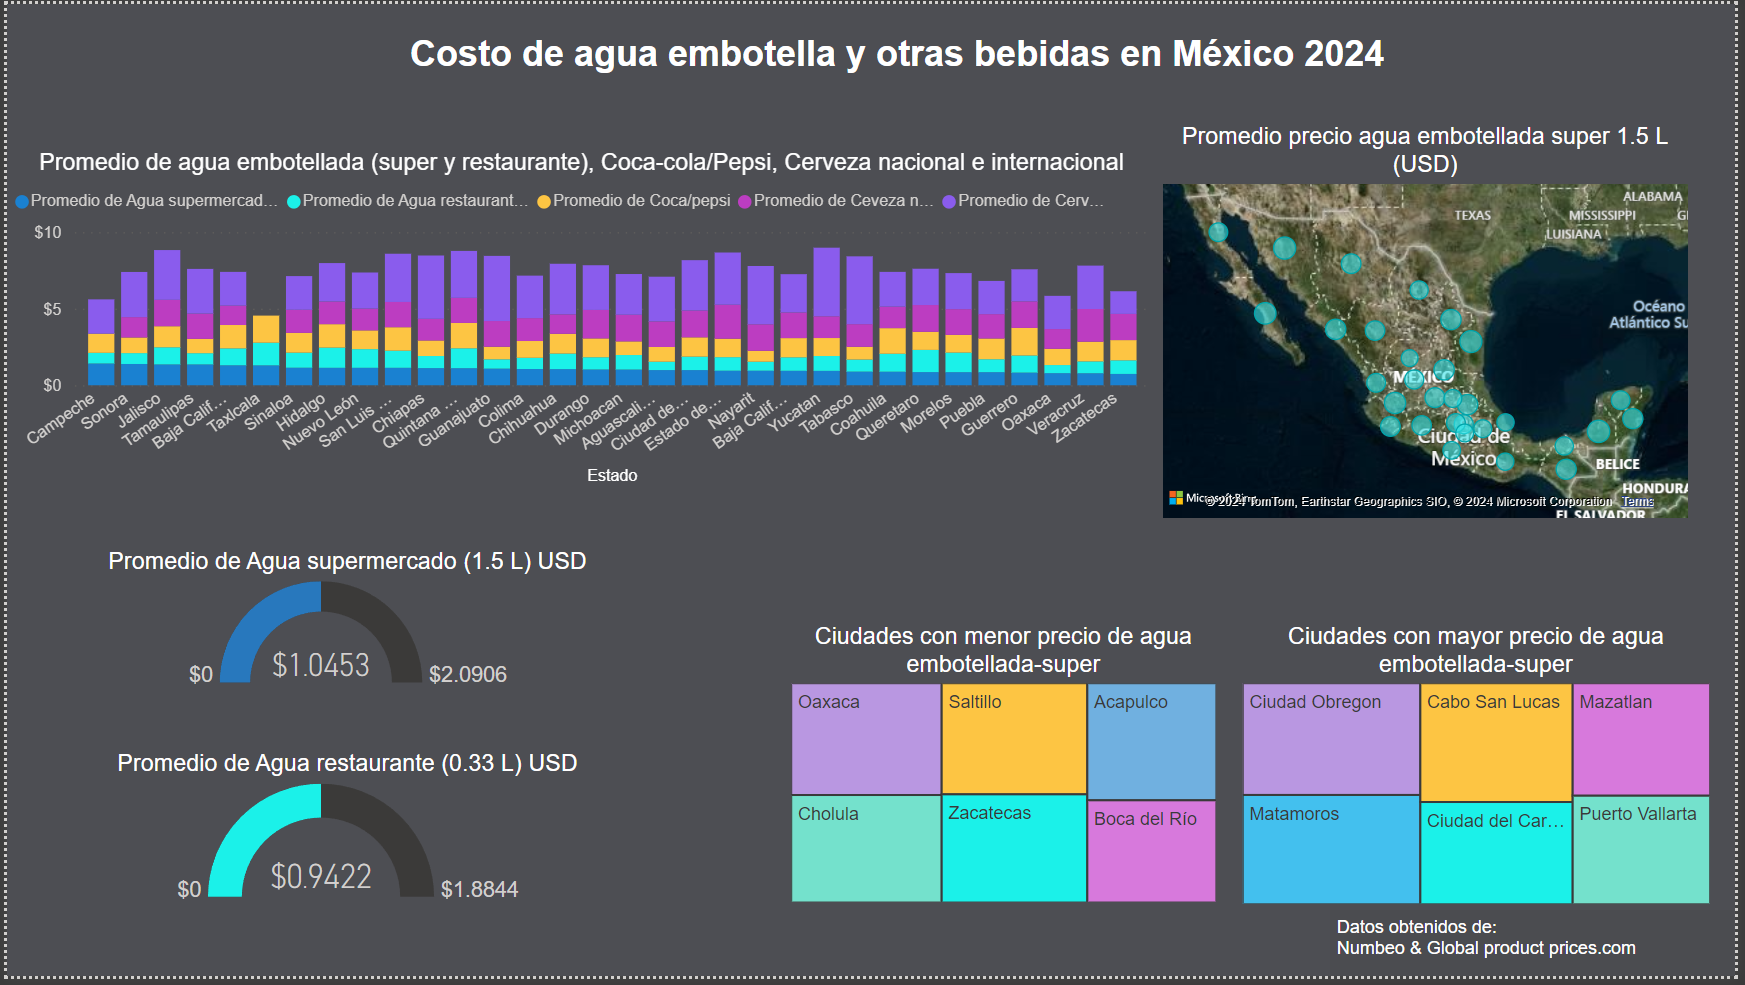

The page's visual inventory and layout, read from the dashboard file:
{"tool":"powerbi","page":{"name":"bEBIDAS_MEX","canvas":[1280,720],"ordinal":1},"visuals":[{"type":"treemap","title":"Ciudades con mayor precio de agua embotellada super","fields":{"Group":["T5 aguaemb_mx.Ciudad"],"Values":["Avg(T5 aguaemb_mx.Agua supermercado (1.5L))"]},"box":[913.8,461.5,349.2,247.7],"z":0},{"type":"map","title":"Promedio precio agua embotellada super 1.5 L (USD)","fields":{"Category":["T5 aguaemb_mx.Estado"],"Size":["Avg(T5 aguaemb_mx.Agua supermercado (1.5L))"]},"box":[0,300,561.5,409.2],"z":1000},{"type":"treemap","title":"Ciudades con menor precio de agua embotellada super","fields":{"Group":["T5 aguaemb_mx.Ciudad"],"Values":["Avg(T5 aguaemb_mx.Agua supermercado (1.5L))"]},"box":[572.3,461.5,321.5,247.7],"z":2000},{"type":"gauge","fields":{"Y":["Avg(T5 aguaemb_mx.Agua supermercado (1.5L) USD)"]},"box":[772.3,300,315.4,129.2],"z":3000},{"type":"lineStackedColumnComboChart","title":"Promedio de agua embotellada supermercado, restaurante, Coca-cola/Pepsi, Cerveza nacional e internacional","fields":{"Category":["T6 otrasbebd_mx.Estado"],"Y":["Avg(T5 aguaemb_mx.Agua supermercado (1.5L) USD)","Avg(T5 aguaemb_mx.Agua restaurante (0.33 L))","Avg(T6 otrasbebd_mx.Coca/pepsi)","Avg(T6 otrasbebd_mx.Ceveza nacional)","Avg(T6 otrasbebd_mx.Cerveza internacional)"]},"box":[0,63.1,863.1,236.9],"z":4000},{"type":"donutChart","title":"Promedio de Agua supermercado (1.5L) y restaurante (0.33L)  USD ","fields":{"Y":["Avg(T5 aguaemb_mx.Agua supermercado (1.5L) USD)","Avg(T5 aguaemb_mx.Agua restaurante (0.33 L))"]},"box":[875.6,63.1,386.8,208.1],"z":5000},{"type":"textbox","box":[301.7,0,786.2,65.2],"z":6000}]}

Visuals, with their boxes in screenshot pixels (x1, y1, x2, y2), scaled from the page's 1280x720 canvas onto the 1745x985 screenshot:
"Ciudades con mayor precio de agua embotellada super" treemap: <box>1246,631,1722,970</box>
"Promedio precio agua embotellada super 1.5 L (USD)" map: <box>0,410,765,970</box>
"Ciudades con menor precio de agua embotellada super" treemap: <box>780,631,1219,970</box>
gauge - Avg(T5 aguaemb_mx.Agua supermercado (1.5L) USD): <box>1053,410,1483,587</box>
"Promedio de agua embotellada supermercado, restaurante, Coca-cola/Pepsi, Cerveza nacional e internacional" lineStackedColumnComboChart: <box>0,86,1177,410</box>
"Promedio de Agua supermercado (1.5L) y restaurante (0.33L)  USD " donutChart: <box>1194,86,1721,371</box>
textbox: <box>411,0,1483,89</box>
